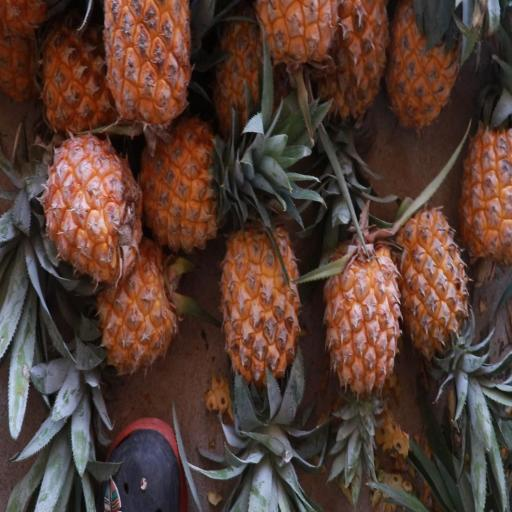Pineapple - v8 v1: (136, 110, 260, 258), (36, 127, 147, 292), (218, 208, 304, 418), (318, 227, 404, 410), (390, 201, 473, 379), (89, 224, 183, 380), (102, 0, 195, 139), (381, 4, 464, 139), (455, 75, 512, 269)
